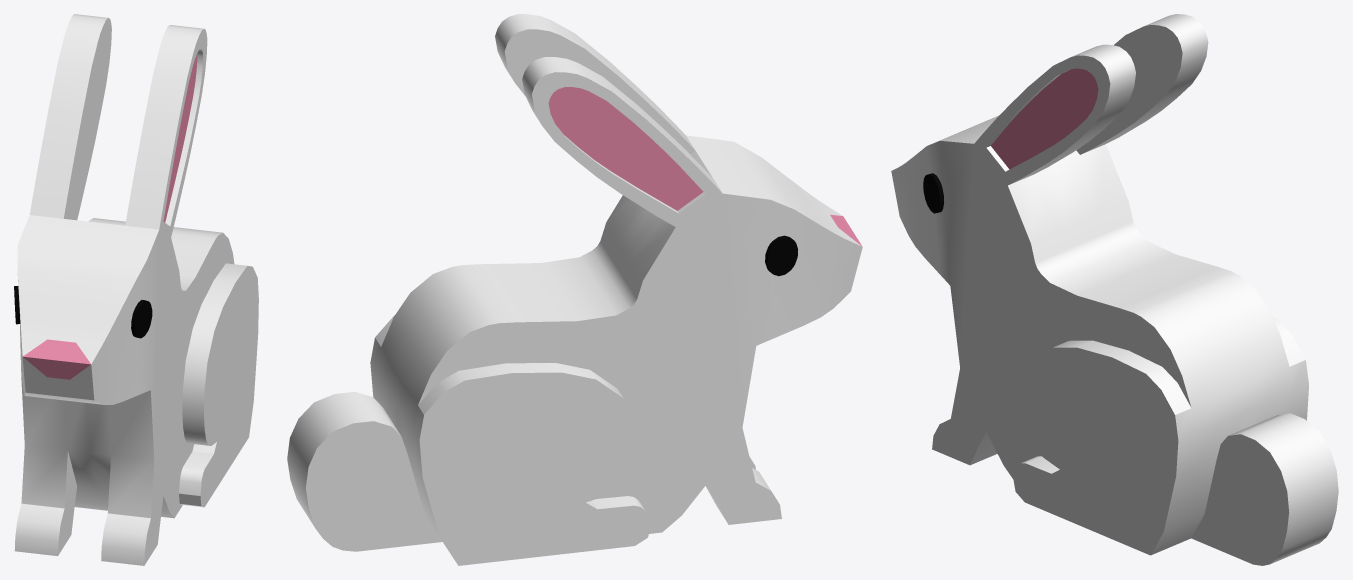
The model's file is rabbit.glb.
The picture shows the model from 3 angles, left to right: view 1: azimuth 30°, elevation 25°; view 2: azimuth 150°, elevation 25°; view 3: azimuth 270°, elevation 25°; orthographic projection. The views are drawn at different scales.
Visible parts, largest first — view 1: Plane.140, Circle.1919; view 2: Plane.140, Circle.1919; view 3: Plane.140, Circle.1919.
Part boxes in pixels (<box>): Plane.140: <box>14,14,258,565</box>; Circle.1919: <box>14,286,152,338</box>; Plane.140: <box>287,14,862,565</box>; Circle.1919: <box>765,235,797,276</box>; Plane.140: <box>891,14,1338,565</box>; Circle.1919: <box>923,173,944,213</box>.
Size of the model in its own units: 1.98 by 2.25 by 1.98.
Materials: 1 (1 with a texture image).
